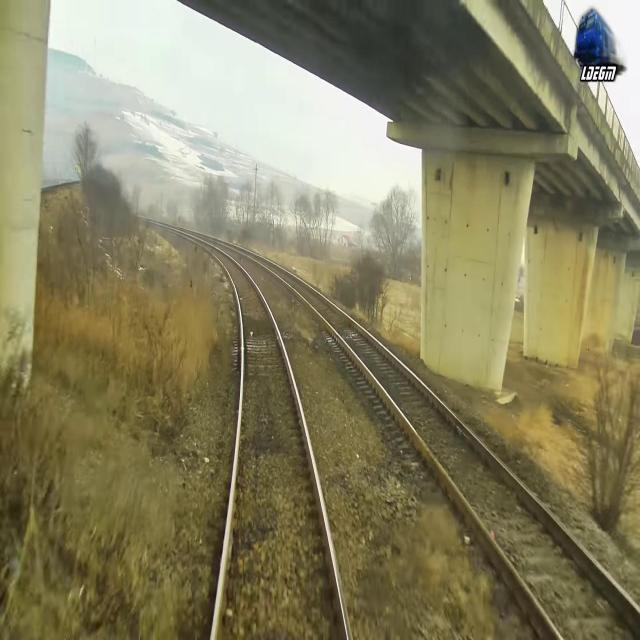rail-track: (199, 233, 640, 639), (165, 227, 347, 639)
